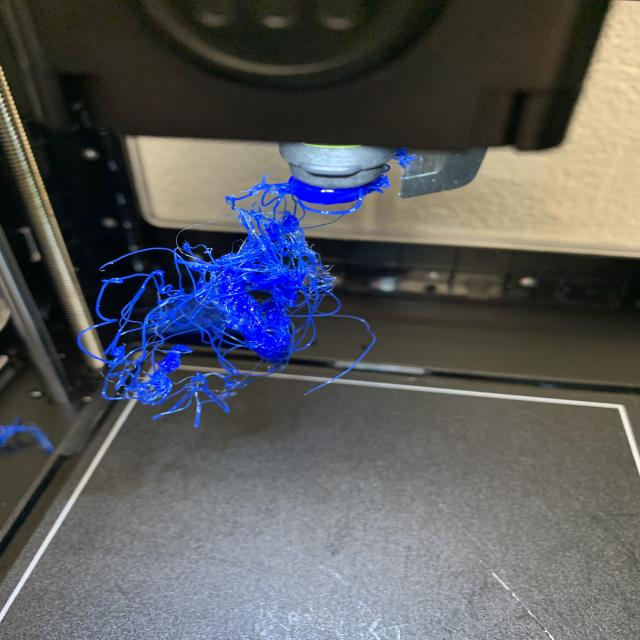spaghetti: (98, 178, 368, 428), (371, 152, 431, 200), (0, 424, 58, 453)
